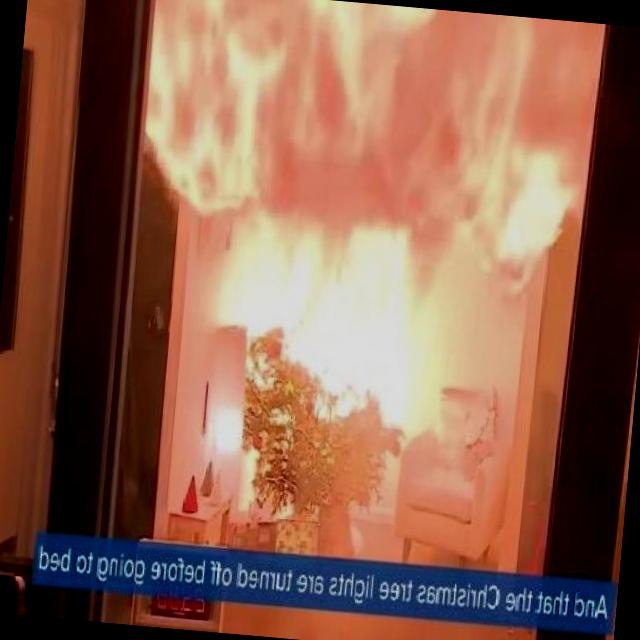fire: (115, 0, 598, 439)
